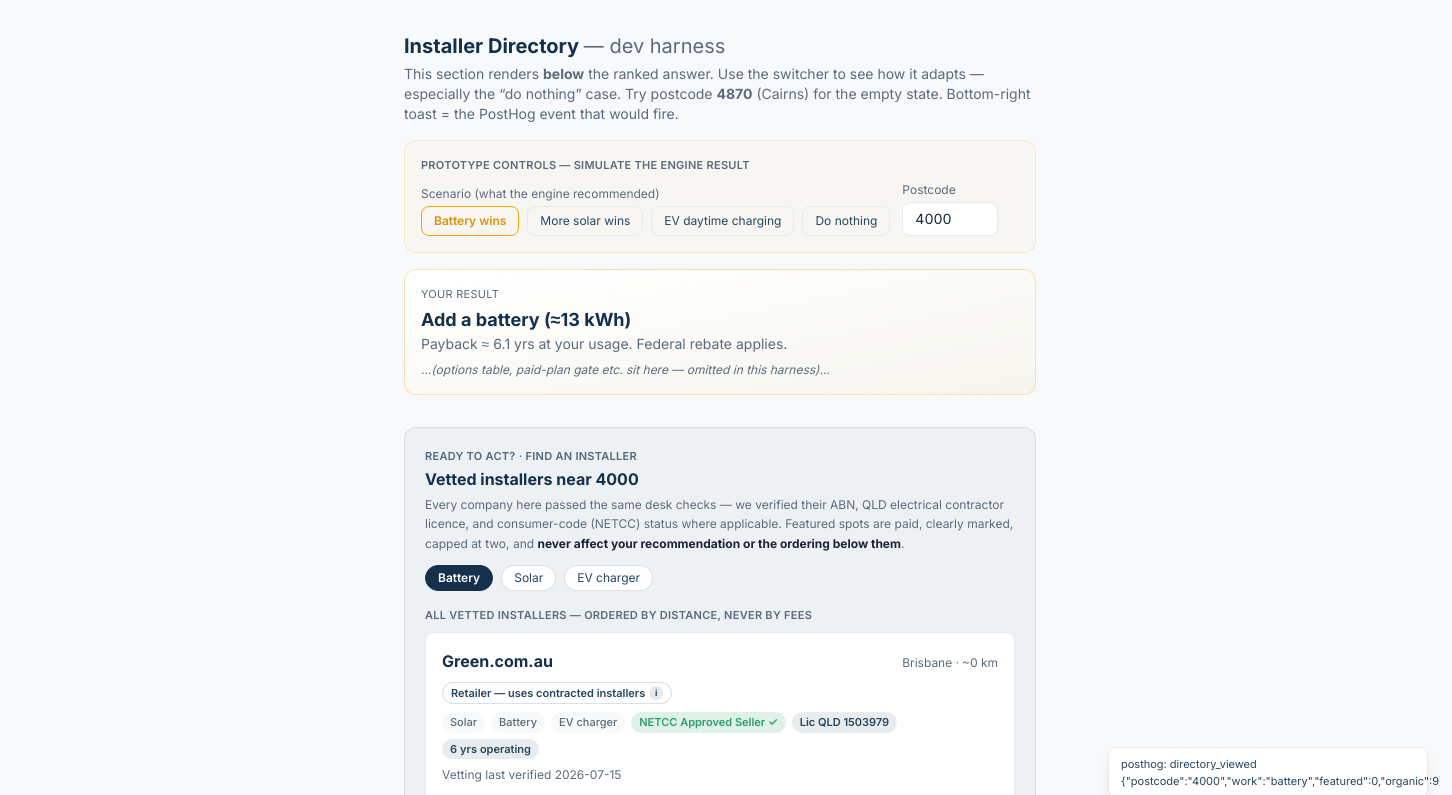
Test case: directory — behaviour via the dev harness › empty-state waitlist submit confirms
Replace the text in the field with test id "dev-postcode" with "2000" at x=950, y=218, box [902,202,998,236]
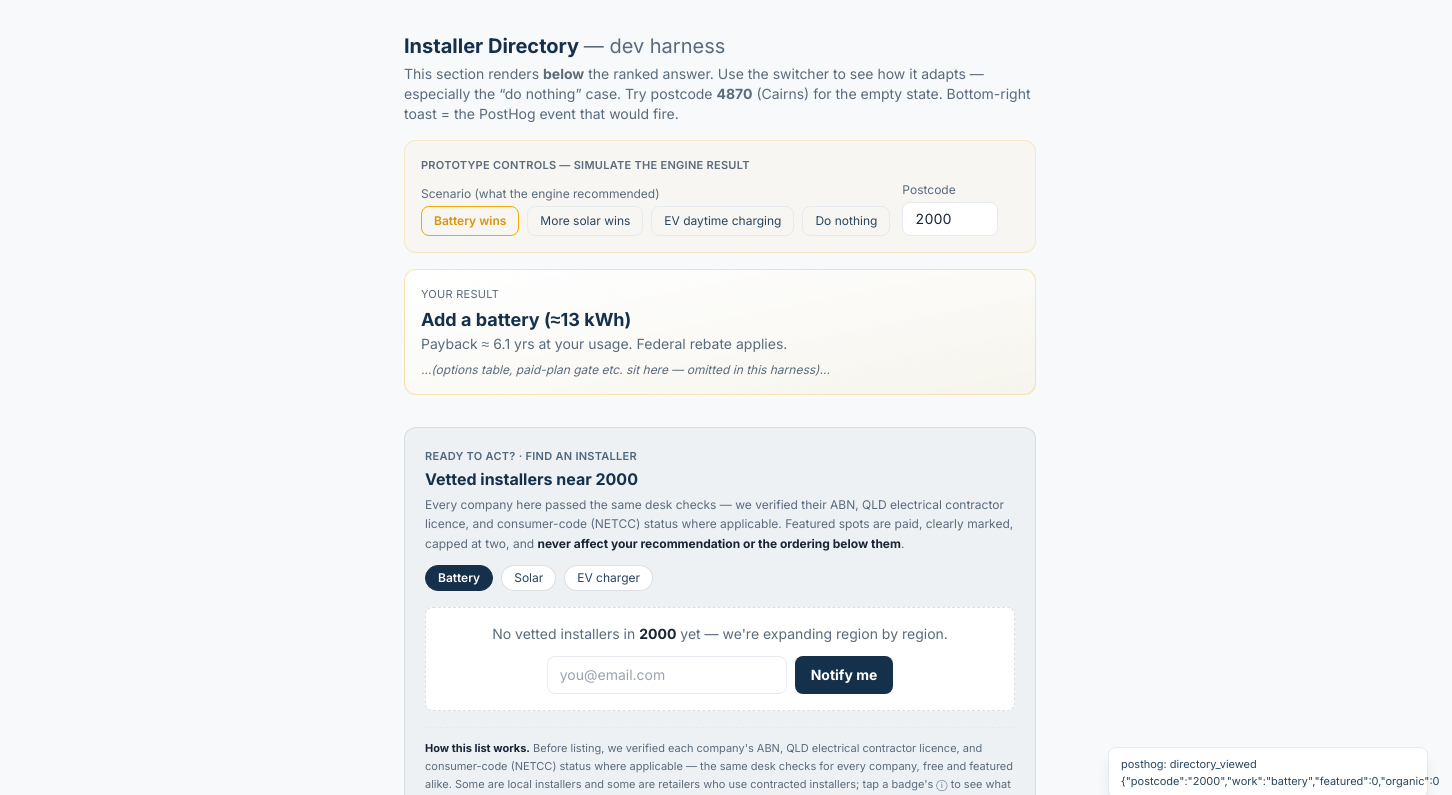
Type "me@example.com" into the field named "Email to be notified".
click(667, 675); type("me@example.com")  # box [547,656,787,694]
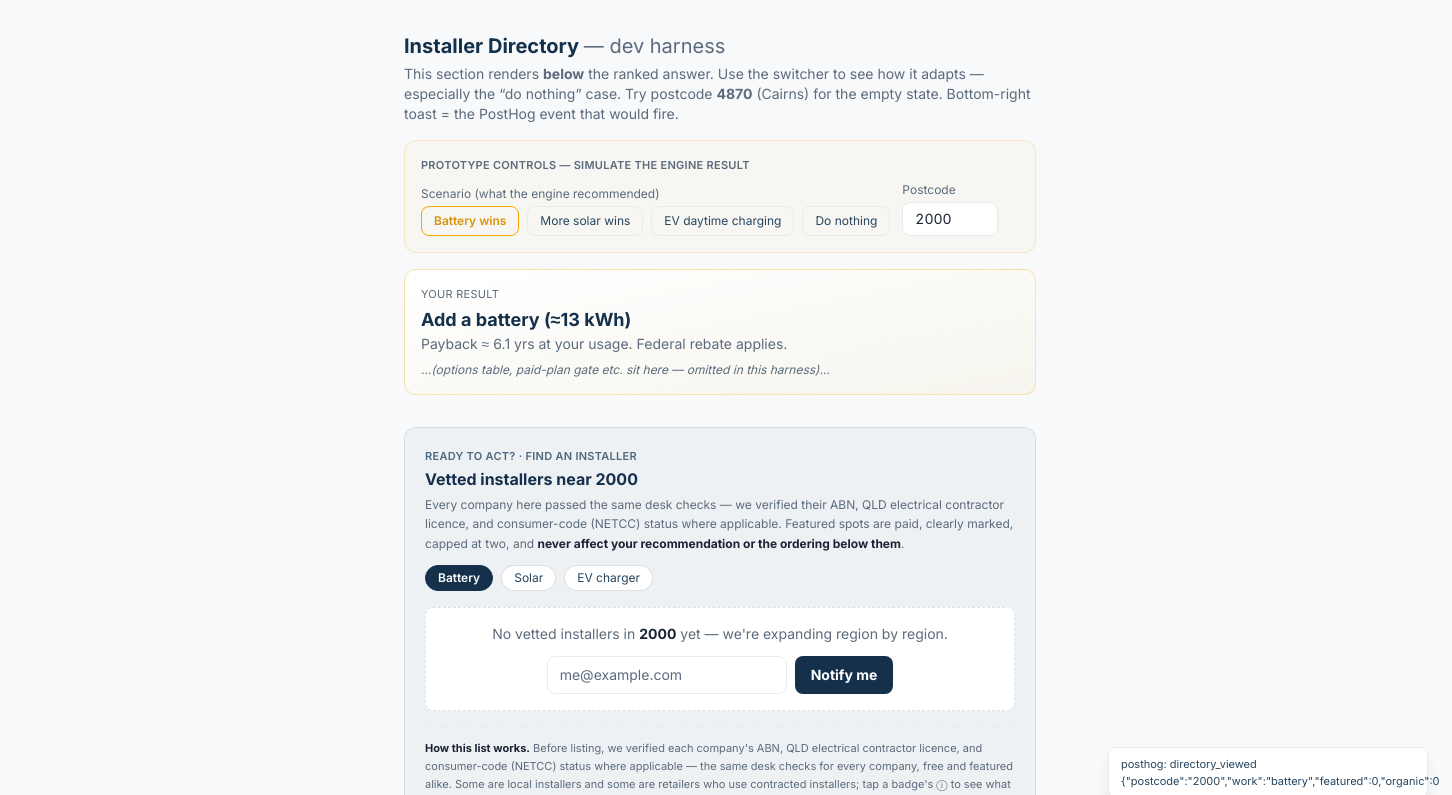
Submit the form with test id "waitlist-notify", box [547,656,893,694]
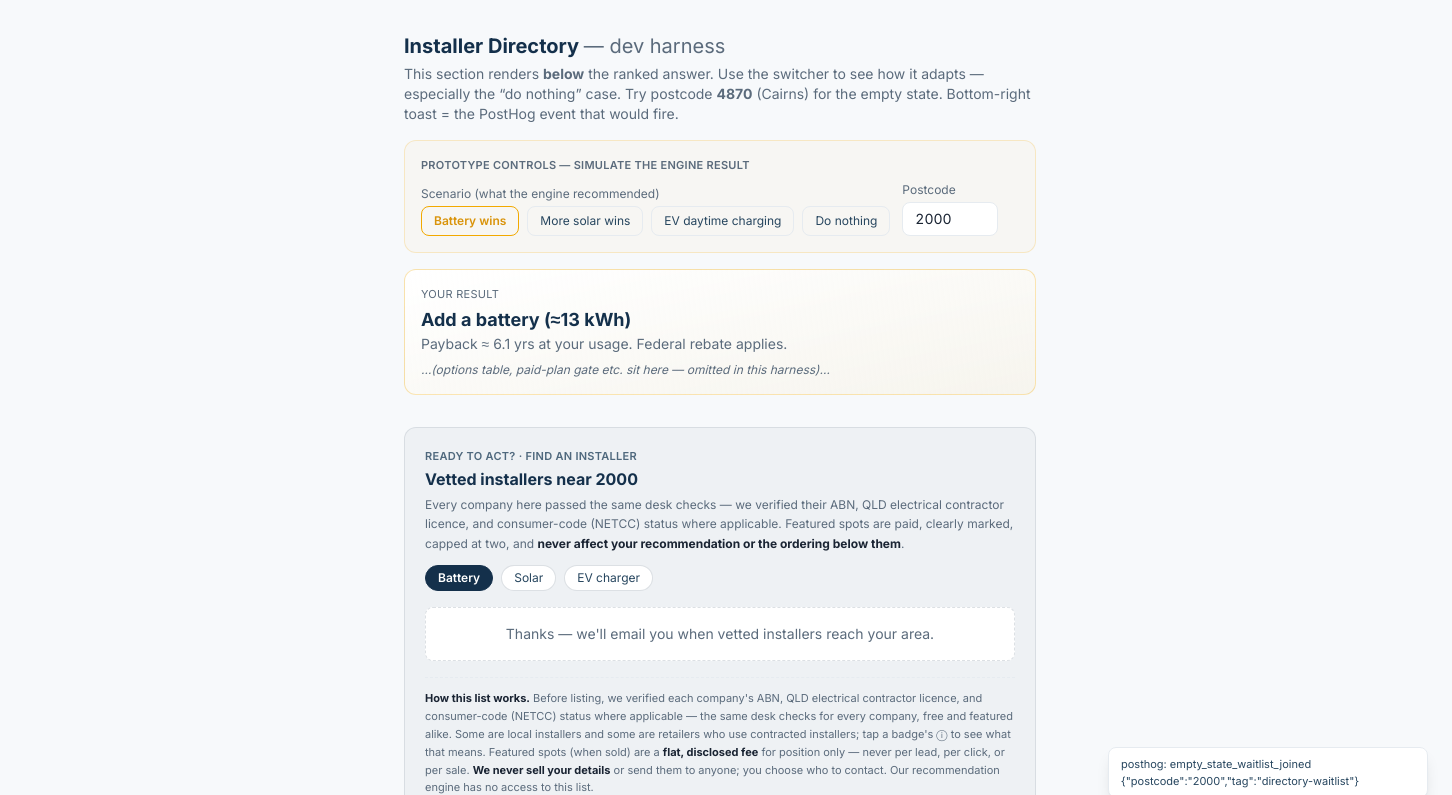
Expected: the element with test id "empty-state" shows "we'll email you", [506,625,934,642]
